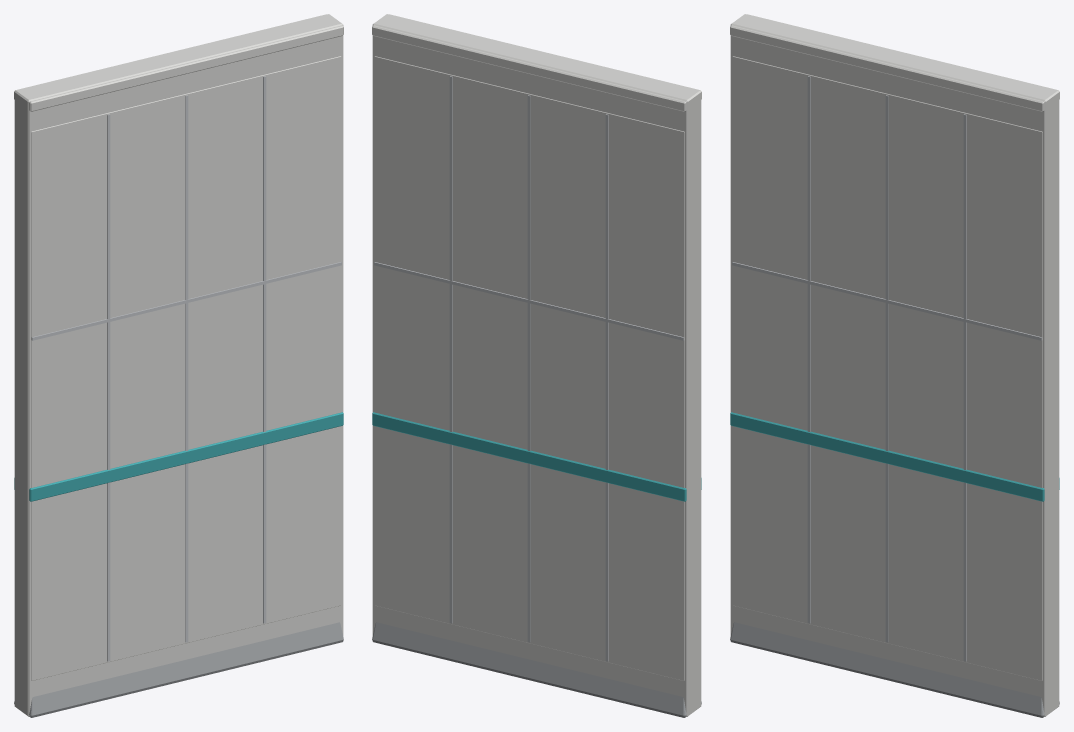
File: pet-shop-and-grooming-salon-shop-wall-panel-module-b2282259__34582.glb
3 renders of one model, left to right at view 1: azimuth 30°, elevation 25°; view 2: azimuth 150°, elevation 25°; view 3: azimuth 330°, elevation 25°, orthographic.
Visible parts, largest first — view 1: shop-wall-panel-module; view 2: shop-wall-panel-module; view 3: shop-wall-panel-module.
Boxes of the visible parts, left/top/right/bottom form: shop-wall-panel-module: left=14, top=14, right=343, bottom=717; shop-wall-panel-module: left=372, top=14, right=701, bottom=717; shop-wall-panel-module: left=730, top=14, right=1059, bottom=717.
Bounding box in the file's own units: 1.5 × 2.8 × 0.1461.
